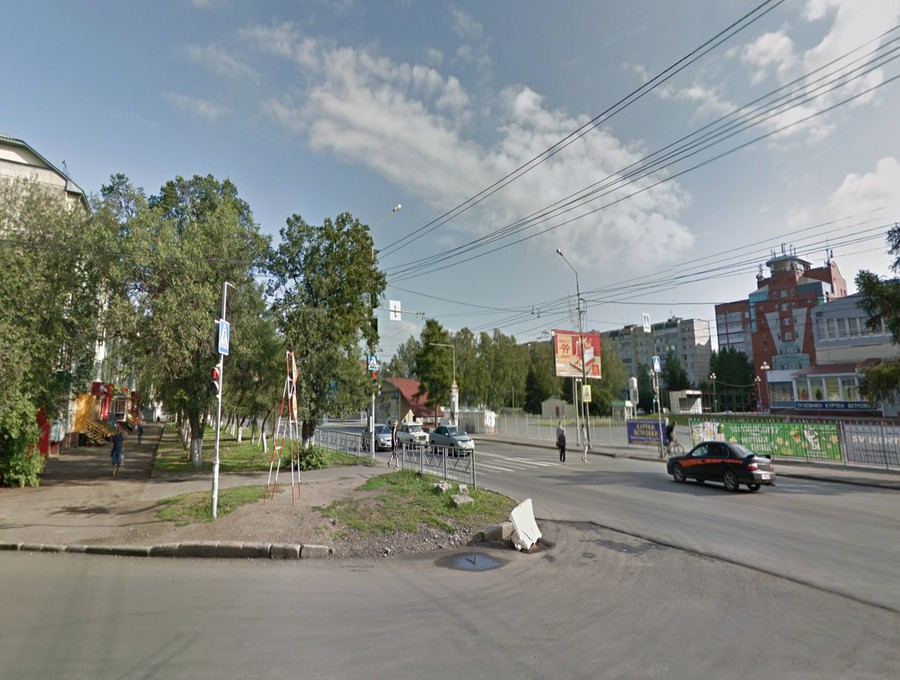Traffic Light-red: (208, 366, 224, 398)
